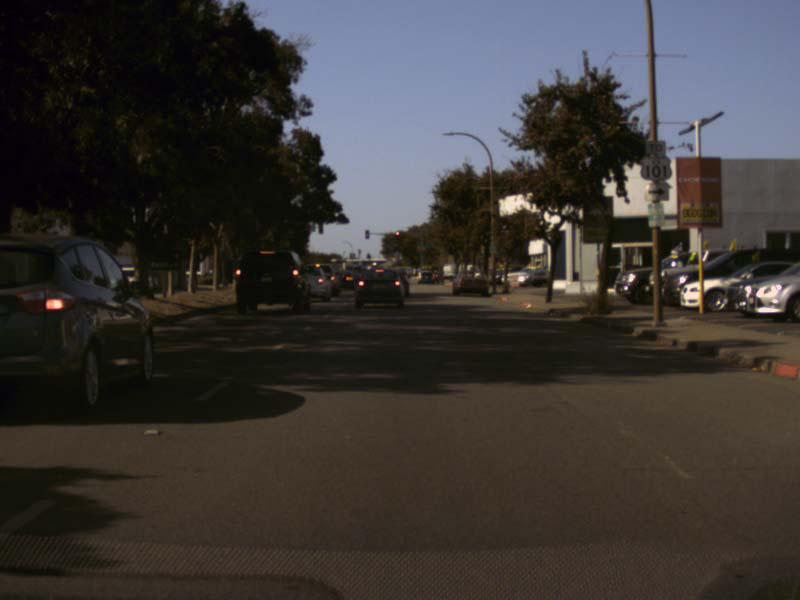Red: (365, 230, 368, 238)
Yellow: (395, 230, 399, 238)
